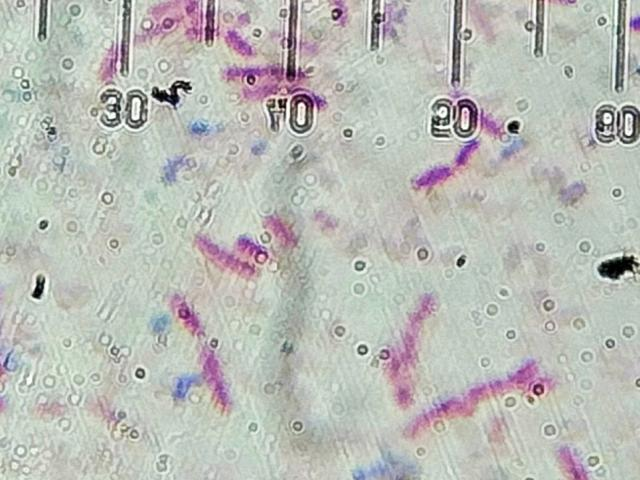E. coli: (469, 362, 549, 406), (388, 291, 435, 352), (200, 343, 234, 415), (252, 90, 329, 114), (394, 401, 453, 431), (147, 0, 203, 29), (193, 234, 234, 268), (231, 66, 311, 81), (173, 293, 199, 334), (410, 165, 450, 191), (387, 357, 410, 401), (446, 138, 482, 165), (564, 445, 589, 480), (231, 27, 262, 54), (97, 40, 117, 81), (262, 213, 291, 239), (233, 232, 260, 258), (476, 107, 503, 129)
